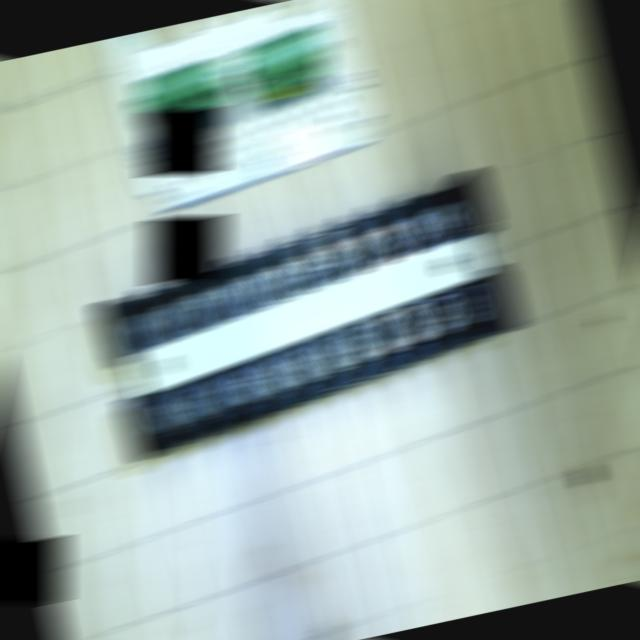Flathead_Block: (84, 170, 532, 460)
Terminal_1: (234, 23, 334, 98), (134, 57, 230, 124)
